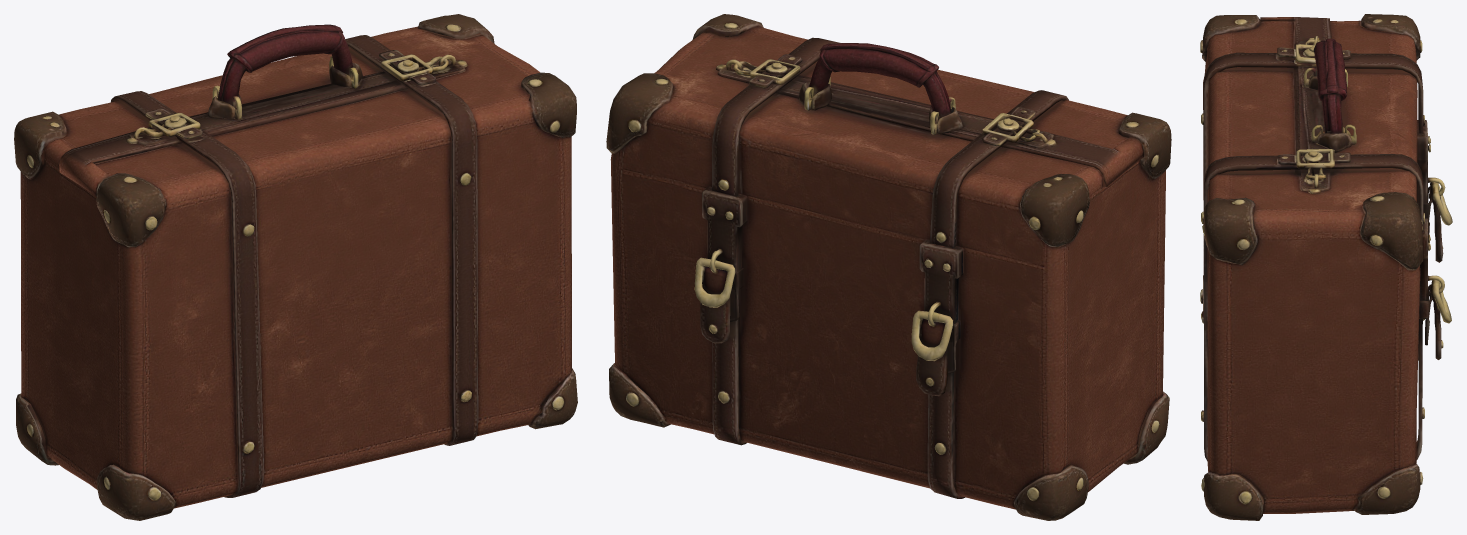
Rendered from prop-suitcase-v01.glb.
3 renders of one model, left to right at view 1: azimuth 30°, elevation 25°; view 2: azimuth 150°, elevation 25°; view 3: azimuth 270°, elevation 25°, orthographic. The views are drawn at different scales.
Parts seen in each view (by area): view 1: tripo_node_db92e5ee-a56c-42fe-9675-cfb13a835ddd; view 2: tripo_node_db92e5ee-a56c-42fe-9675-cfb13a835ddd; view 3: tripo_node_db92e5ee-a56c-42fe-9675-cfb13a835ddd.
Part boxes in pixels (<box>): tripo_node_db92e5ee-a56c-42fe-9675-cfb13a835ddd: <box>14,14,577,520</box>; tripo_node_db92e5ee-a56c-42fe-9675-cfb13a835ddd: <box>606,14,1171,520</box>; tripo_node_db92e5ee-a56c-42fe-9675-cfb13a835ddd: <box>1200,14,1452,520</box>.
Bounding box in the file's own units: 0.5512 × 0.4606 × 0.2859.
Materials: 1 (1 with a texture image).
